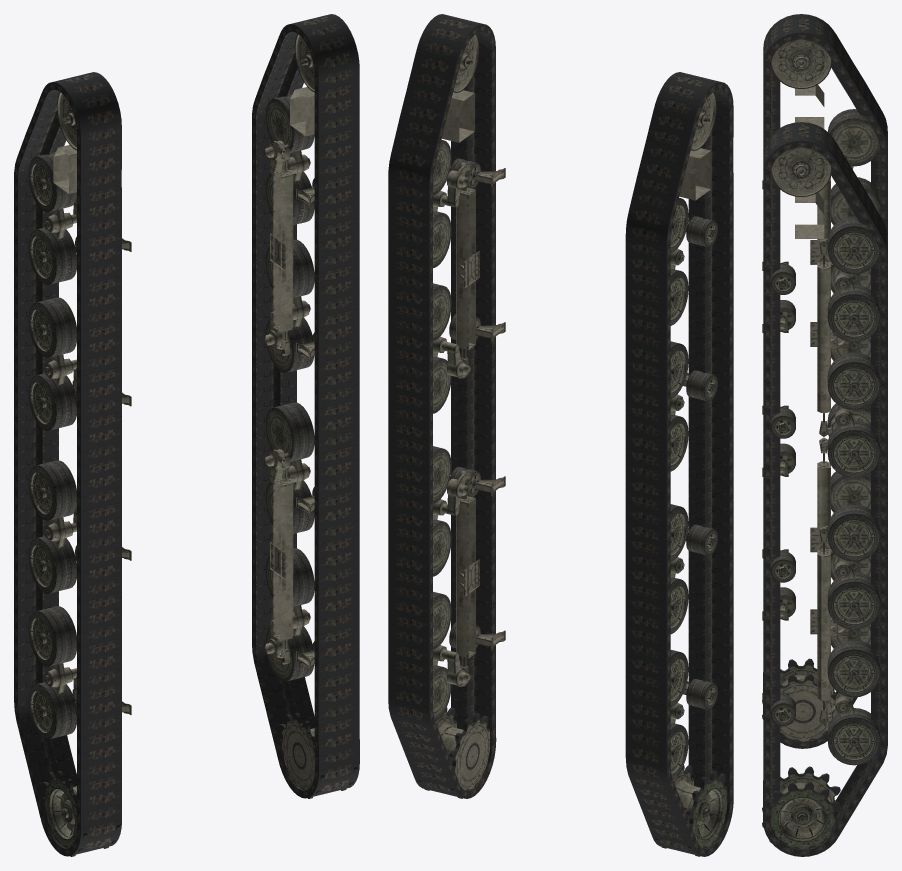
File: Chassis.glb
3 views of the same model, side by side, from view 1: azimuth 30°, elevation 25°; view 2: azimuth 150°, elevation 25°; view 3: azimuth 270°, elevation 25° (orthographic). The views are drawn at different scales.
Parts seen in each view (by area): view 1: set_1_group_0, set_0_group_0, set_3_group_0, set_2_group_0; view 2: set_1_group_0, set_0_group_0, set_3_group_0, set_2_group_0; view 3: set_3_group_0, set_0_group_0, set_2_group_0, set_1_group_0.
Part boxes in pixels (bbox=[...]): set_1_group_0: bbox=[14, 72, 121, 856]; set_0_group_0: bbox=[252, 14, 359, 798]; set_3_group_0: bbox=[265, 34, 357, 798]; set_2_group_0: bbox=[28, 92, 131, 856]; set_1_group_0: bbox=[625, 72, 733, 856]; set_0_group_0: bbox=[388, 14, 496, 798]; set_3_group_0: bbox=[417, 34, 505, 798]; set_2_group_0: bbox=[654, 92, 727, 856]; set_3_group_0: bbox=[762, 147, 880, 848]; set_0_group_0: bbox=[763, 122, 887, 856]; set_2_group_0: bbox=[762, 39, 880, 745]; set_1_group_0: bbox=[763, 14, 887, 748].
Size of the model in its own units: 3.4 by 8.98 by 1.43.
4 materials, 4 textured.
